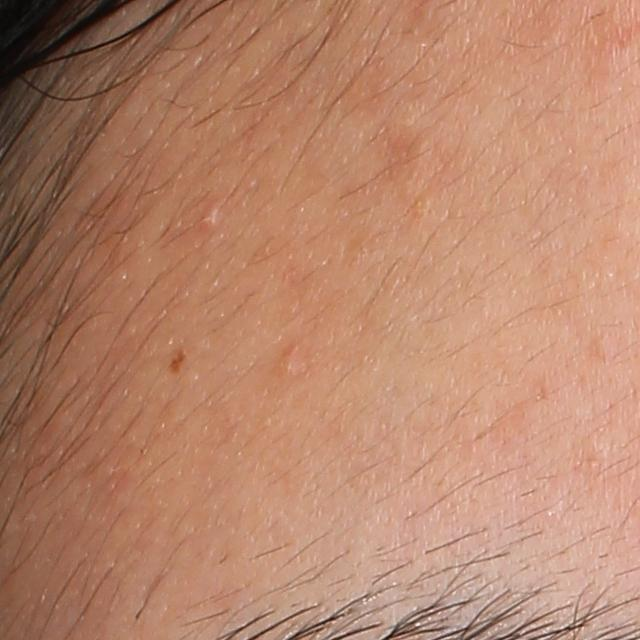nevus: (166, 348, 191, 376)
